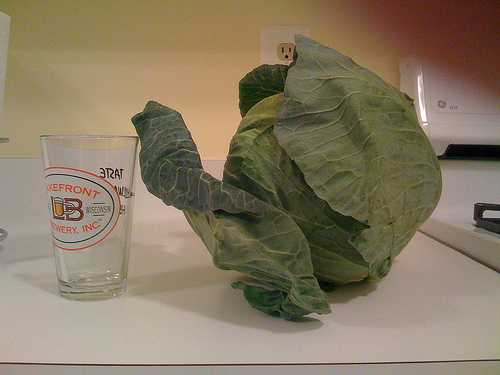cabbage: (130, 33, 443, 322)
